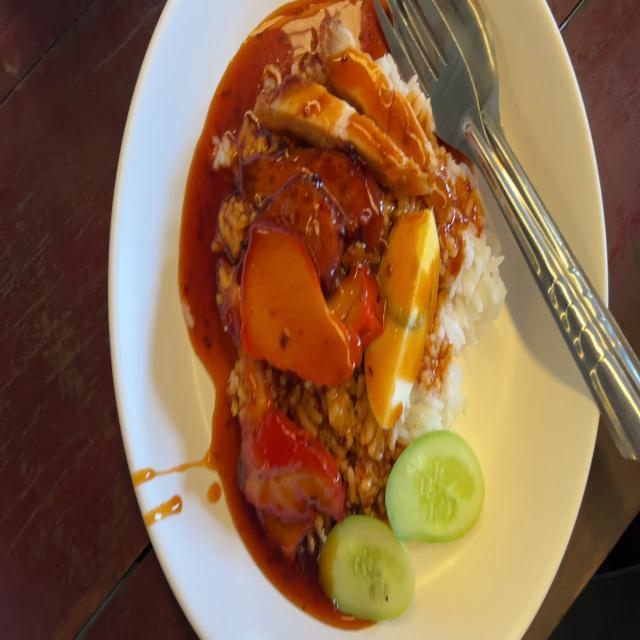boiled_egg: (366, 206, 439, 427)
chainese_sausage: (237, 140, 376, 262)
crispy_pork: (256, 15, 433, 193)
cucumber: (383, 426, 488, 539), (325, 516, 415, 613)
red_pork: (241, 221, 353, 379), (237, 390, 337, 544)
red_pork_and_crispy_pork: (207, 18, 499, 621)
